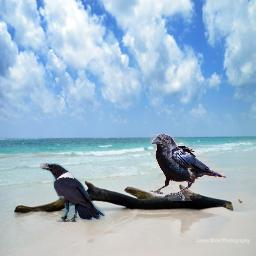Crow: (149, 134, 226, 201), (40, 163, 105, 222)
